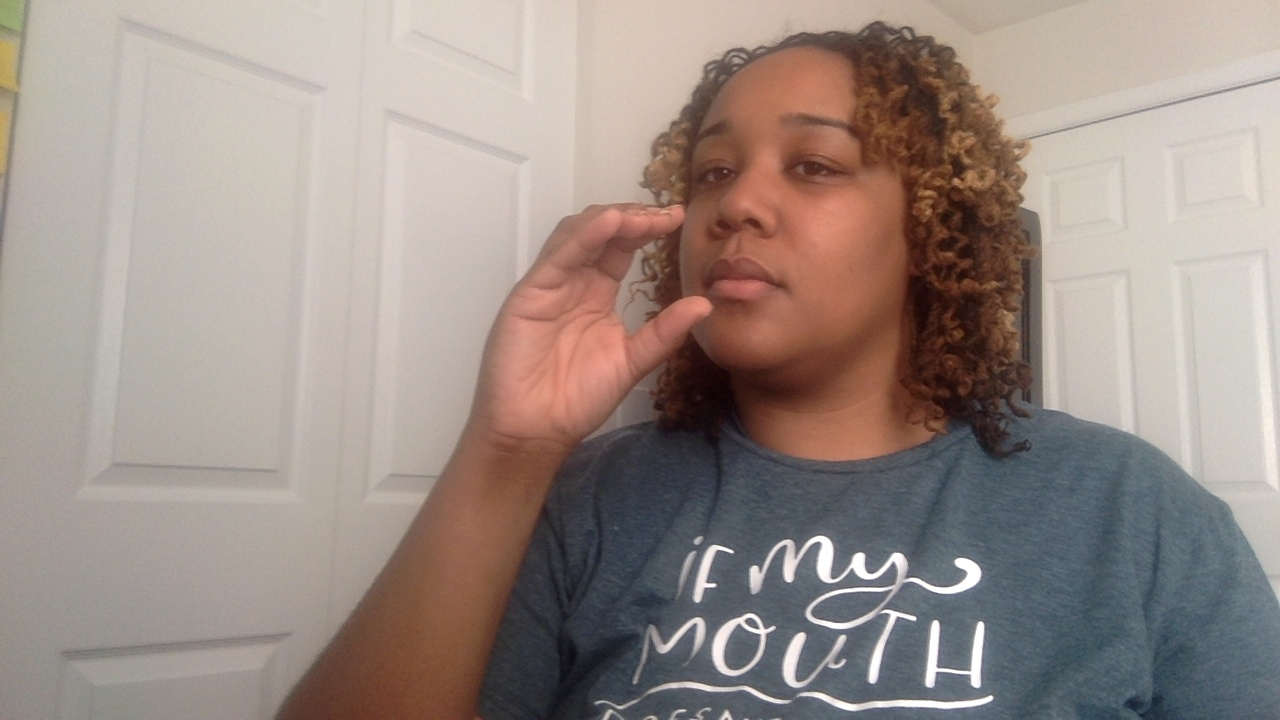drink: (475, 201, 926, 457)
